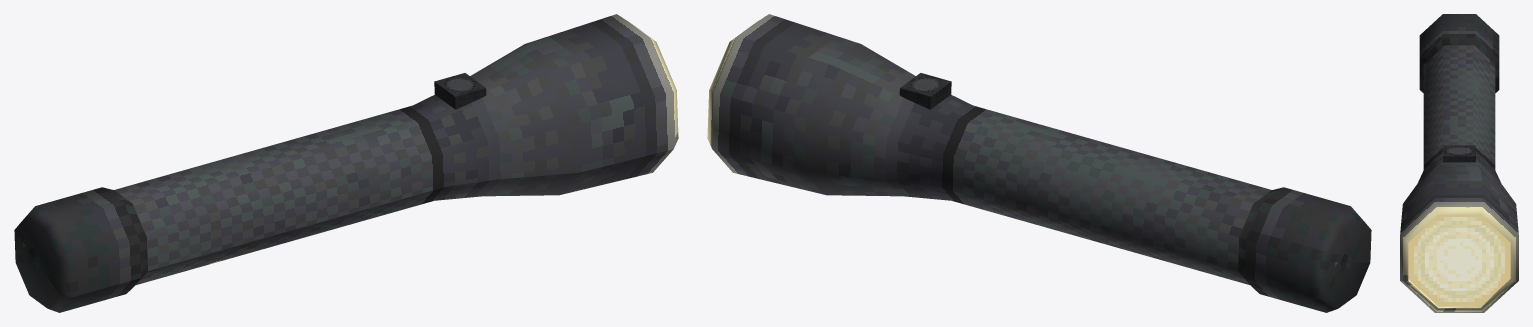
File: flashlight.glb
3 renders of one model, left to right at view 1: azimuth 30°, elevation 25°; view 2: azimuth 150°, elevation 25°; view 3: azimuth 270°, elevation 25°, orthographic. The views are drawn at different scales.
Visible parts, largest first — view 1: flashlight; view 2: flashlight; view 3: flashlight.
Boxes of the visible parts, bbox=[...] form: flashlight: bbox=[14, 14, 678, 312]; flashlight: bbox=[707, 14, 1371, 312]; flashlight: bbox=[1400, 14, 1518, 312].
Bounding box in the file's own units: 0.2372 × 0.0509 × 0.0508.
Materials: 2 (2 with a texture image).
